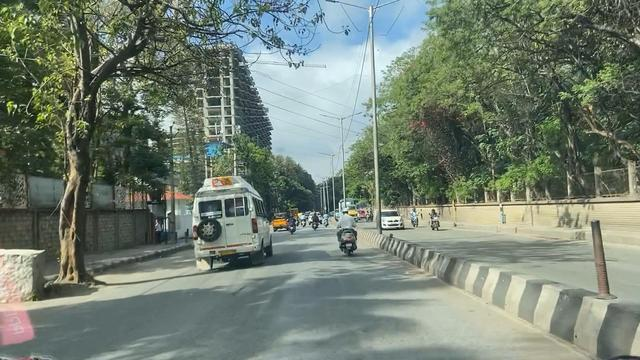HMV: (189, 177, 276, 267)
LMV: (323, 209, 370, 265)
